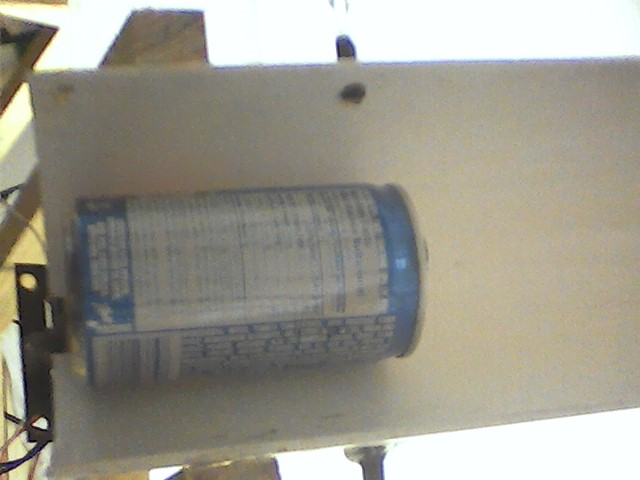lata: (56, 177, 439, 393)
